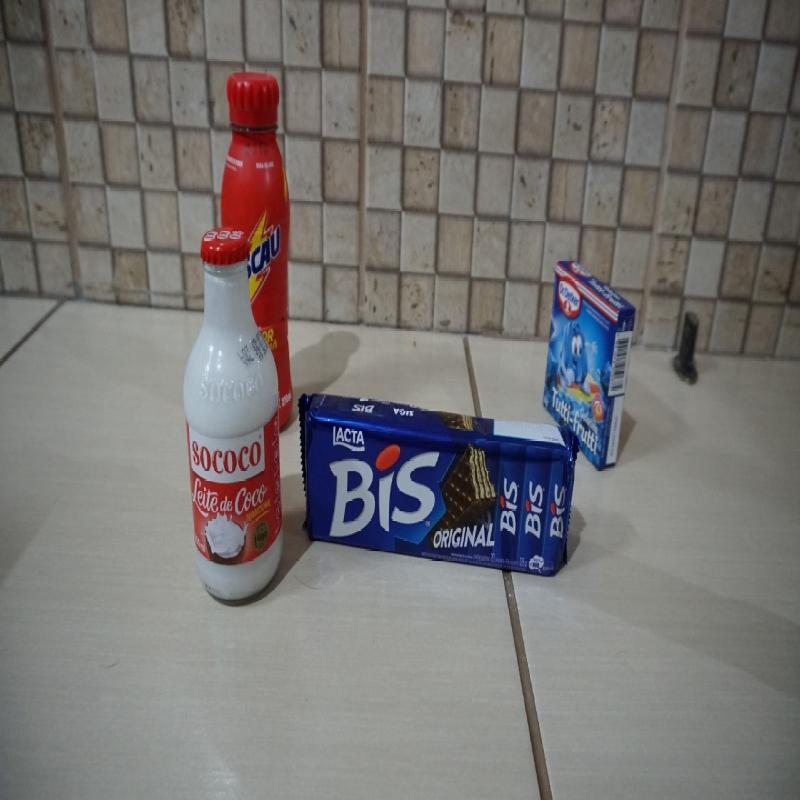Chocolate Milk: (224, 67, 293, 233)
Coconut Milk: (191, 228, 287, 592)
Gelatine: (543, 257, 638, 456)
